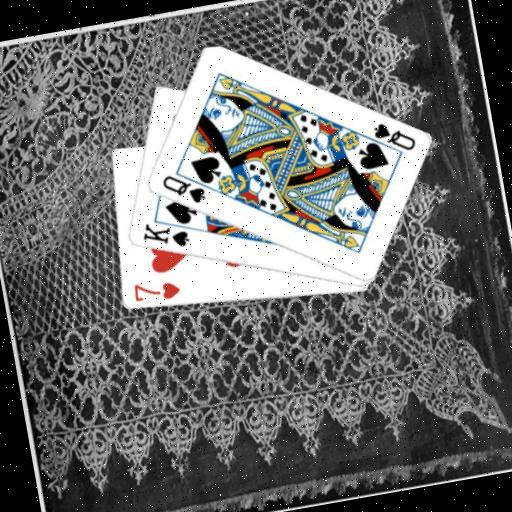7H: (128, 274, 183, 307)
KS: (136, 213, 192, 255)
QS: (157, 166, 208, 211), (367, 114, 418, 158)
